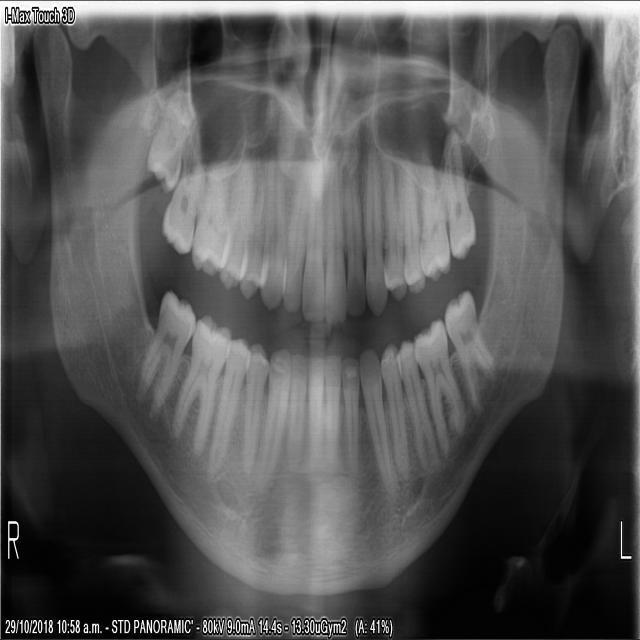LCD: (360, 347, 397, 494)
LCU: (363, 159, 390, 324)
LID: (323, 345, 343, 474), (341, 354, 362, 475)
LIU: (324, 168, 348, 332), (343, 168, 366, 320)
LMD: (413, 308, 469, 454), (439, 283, 496, 405)
LMU: (437, 130, 482, 268), (414, 150, 454, 289)
LPMD: (397, 339, 440, 470), (381, 344, 412, 479)
LPMU: (382, 159, 409, 308), (398, 162, 425, 303)
RCD: (250, 344, 291, 490)
RCU: (260, 163, 287, 317)
RID: (284, 348, 308, 488), (306, 349, 324, 479)
RIU: (301, 164, 324, 325), (282, 164, 305, 318)
RMD: (171, 310, 237, 459), (134, 283, 198, 417)
RMU: (153, 147, 209, 260), (141, 98, 197, 202), (187, 162, 230, 283)
RPMD: (208, 329, 250, 477), (239, 339, 272, 485)
RPMU: (217, 165, 256, 297), (240, 163, 266, 305)
